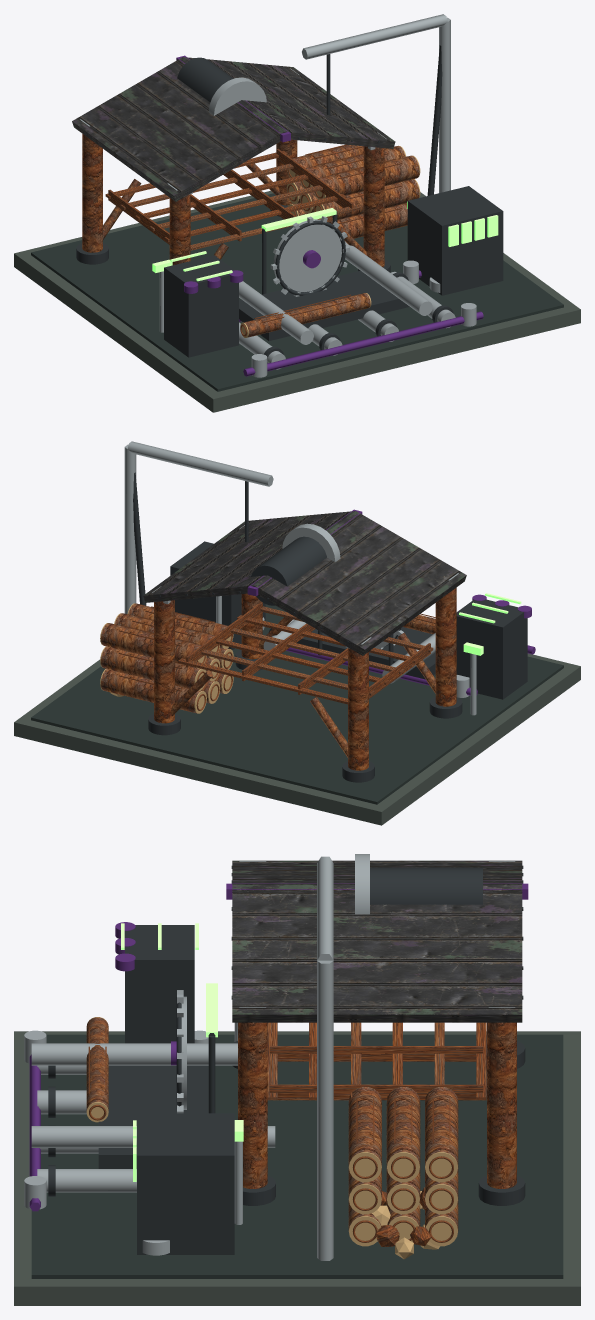
File: timberline_v3_l04.glb
3 renders of one model, top to bottom at view 1: azimuth 30°, elevation 25°; view 2: azimuth 150°, elevation 25°; view 3: azimuth 270°, elevation 25°, orthographic. The views are drawn at different scales.
Visible parts, largest first — view 1: timberline_v3_l04, stone_yard_base, hydraulic_sorter, auto_feed_motor, saw_carriage, circular_saw_blade, saw_safety_light; view 2: timberline_v3_l04, stone_yard_base, auto_feed_motor, hydraulic_sorter, saw_carriage; view 3: timberline_v3_l04, stone_yard_base, hydraulic_sorter, auto_feed_motor, saw_carriage, saw_safety_light, circular_saw_blade.
Boxes of the visible parts, box(x1,y1,x2,y2) form: timberline_v3_l04: box(31, 14, 563, 391); stone_yard_base: box(14, 190, 580, 412); hydraulic_sorter: box(407, 186, 503, 295); auto_feed_motor: box(164, 255, 238, 357); saw_carriage: box(239, 270, 409, 340); circular_saw_blade: box(273, 219, 341, 291); saw_safety_light: box(261, 208, 336, 231); timberline_v3_l04: box(31, 441, 563, 804); stone_yard_base: box(14, 653, 580, 825); auto_feed_motor: box(456, 599, 527, 699); hydraulic_sorter: box(170, 541, 265, 649); saw_carriage: box(296, 627, 435, 679); timberline_v3_l04: box(24, 854, 563, 1278); stone_yard_base: box(14, 1031, 580, 1305); hydraulic_sorter: box(137, 1113, 234, 1254); auto_feed_motor: box(125, 925, 194, 1043); saw_carriage: box(98, 1065, 208, 1168); saw_safety_light: box(206, 983, 217, 1037); circular_saw_blade: box(181, 996, 186, 1109).
Bounding box in the file's own units: 6.5 × 3.96 × 6.1.
Materials: 11 (3 with a texture image).
